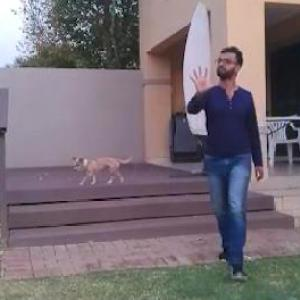follow_hand: (185, 61, 216, 98)
